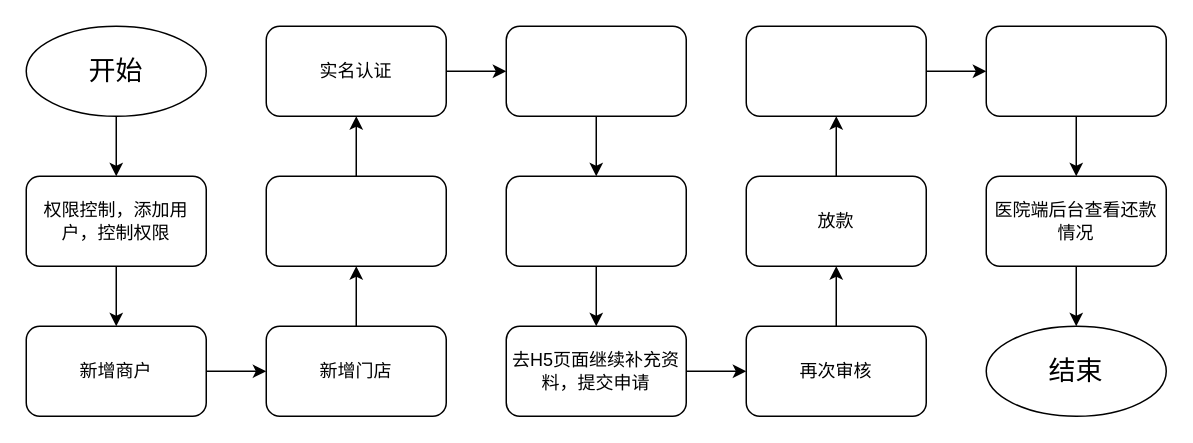
Image size: 1193x443. Some labels were removed from this diagram. Each missing label, with the centre of its shape:
"H5端开始还款" belongs at point (1075, 70).
"使用APP注册账号，扫描门店二维码进入贷款系统" belongs at point (355, 220).
"去后台审核贷款" belongs at point (595, 220).
"申请贷款" belongs at point (595, 70).
"财务审核" belongs at point (835, 70).
